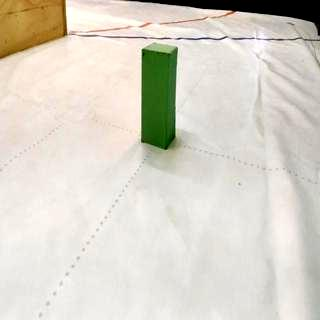greenbox: (140, 39, 180, 150)
